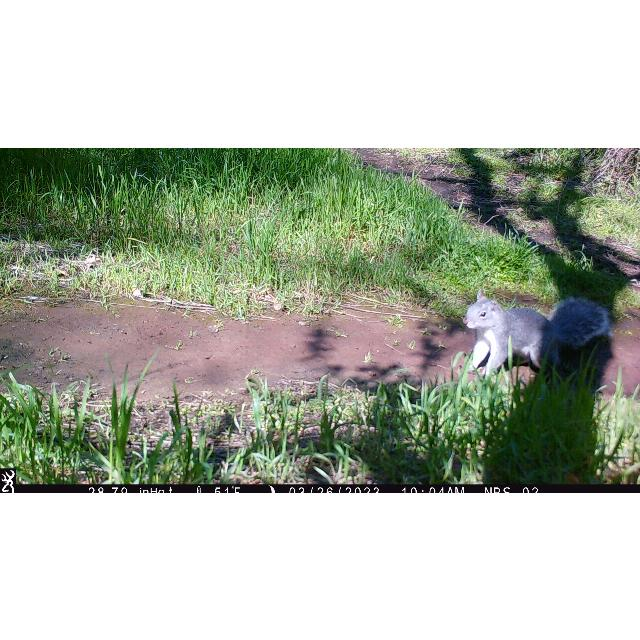animals: (464, 288, 612, 382)
